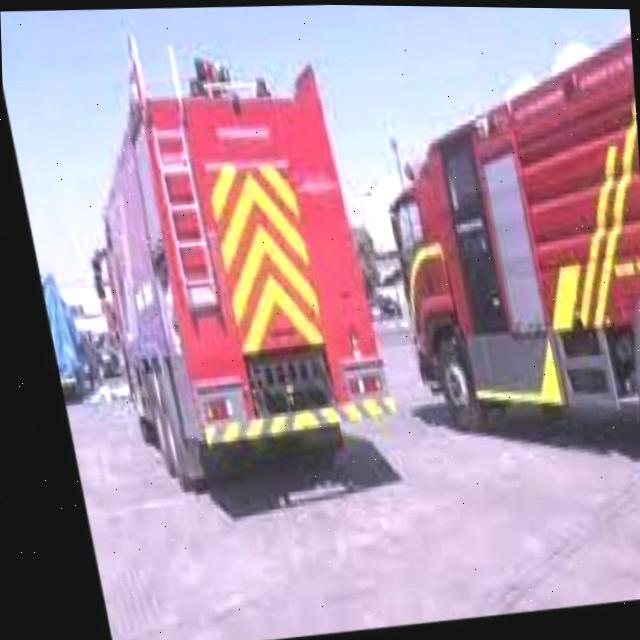emergency: (74, 18, 395, 499), (376, 19, 640, 446)
